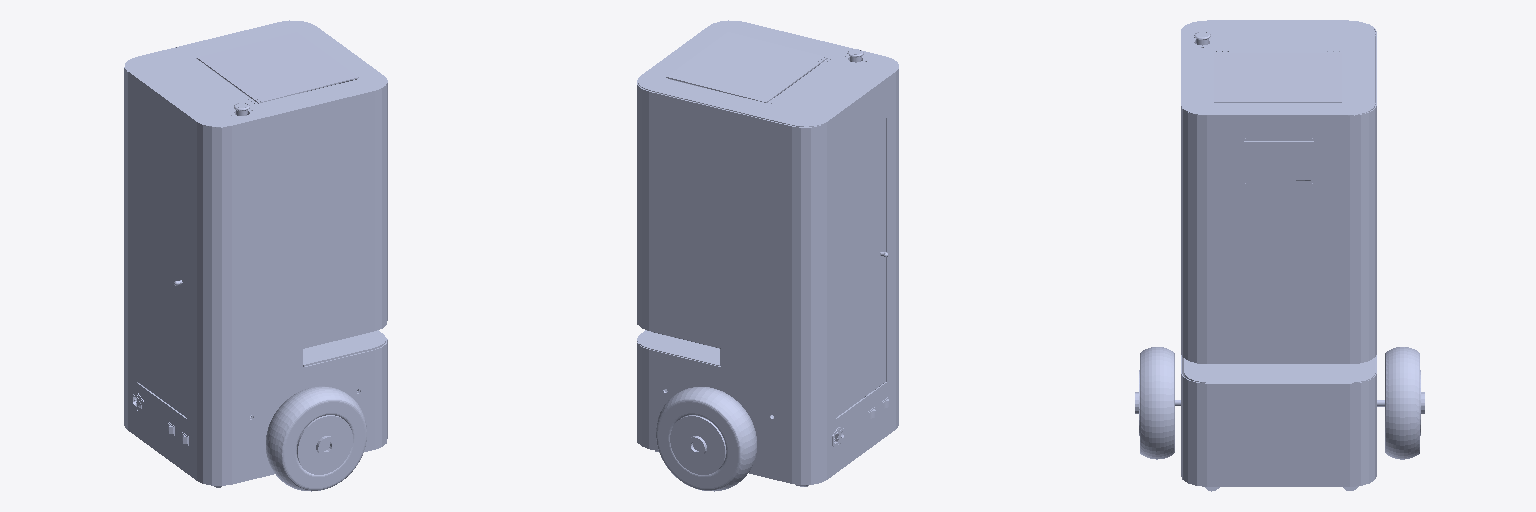
robot.urdf — base_coordinate:
<?xml version="1.0" encoding="utf-8"?>
<!-- This URDF was automatically created by SolidWorks to URDF Exporter! Originally created by [author] ([email redacted]) 
     Commit Version: 1.6.0-4-g7f85cfe  Build Version: 1.6.7995.38578
     For more information, please see http://wiki.ros.org/sw_urdf_exporter -->
<robot
  name="base_coordinate">

  <link name="odom">
  </link>

  <link
    name="base_link">
    <inertial>
      <origin
        xyz="0.0011802 -0.0022568 0.33208"
        rpy="0 0 0" />
      <mass
        value="45.185" />
      <inertia
        ixx="0.64703"
        ixy="-0.00015878"
        ixz="-0.0017912"
        iyy="0.63848"
        iyz="-6.5411E-05"
        izz="0.45954" />
    </inertial>
    <visual>
      <origin
        xyz="0 0 0"
        rpy="0 0 0" />
      <geometry>
        <mesh
          filename="package://base_coordinate/meshes/base_link.STL" />
      </geometry>
      <material
        name="">
        <color
          rgba="0.79216 0.81961 0.93333 1" />
      </material>
    </visual>
    <collision>
      <origin
        xyz="0 0 0"
        rpy="0 0 0" />
      <geometry>
        <mesh
          filename="package://base_coordinate/meshes/base_link.STL" />
      </geometry>
    </collision>
  </link>

  <joint name="base_joint" type="fixed">
    <origin xyz="0.0 0.0 0.09" rpy="0.0 0.0 0.0"/>
    <parent link="odom"/>
    <child link="base_link"/>
    <axis xyz="0.0 0.0 0.0"/>
    <limit lower="0.0" upper="0.0" effort="0.0" velocity="0.0"/>
  </joint>

  <link
    name="lidar_link">
    <inertial>
      <origin
        xyz="-0.01205 0.00052865 -0.028765"
        rpy="0 0 0" />
      <mass
        value="0.073082" />
      <inertia
        ixx="1.9579E-05"
        ixy="-1.0452E-07"
        ixz="4.2823E-07"
        iyy="2.4126E-05"
        iyz="-9.3466E-09"
        izz="4.1417E-05" />
    </inertial>
    <visual>
      <origin
        xyz="0 0 0"
        rpy="0 0 0" />
      <geometry>
        <mesh
          filename="package://base_coordinate/meshes/lidar_link.STL" />
      </geometry>
      <material
        name="">
        <color
          rgba="0.79216 0.81961 0.93333 1" />
      </material>
    </visual>
    <collision>
      <origin
        xyz="0 0 0"
        rpy="0 0 0" />
      <geometry>
        <mesh
          filename="package://base_coordinate/meshes/lidar_link.STL" />
      </geometry>
    </collision>
  </link>
  <joint
    name="lidar_joint"
    type="fixed">
    <origin
      xyz="0.041658 0.00082101 0.23873"
      rpy="0 0 0" />
    <parent
      link="base_link" />
    <child
      link="lidar_link" />
    <axis
      xyz="0 0 0" />
  </joint>
  <link
    name="right_wheel">
    <inertial>
      <origin
        xyz="-6.7134E-07 0.045293 -3.4949E-06"
        rpy="0 0 0" />
      <mass
        value="1.3494" />
      <inertia
        ixx="0.0067875"
        ixy="2.3192E-08"
        ixz="2.4575E-07"
        iyy="0.01199"
        iyz="1.7342E-09"
        izz="0.0067878" />
    </inertial>
    <visual>
      <origin
        xyz="0 0 0"
        rpy="0 0 0" />
      <geometry>
        <mesh
          filename="package://base_coordinate/meshes/right_wheel.STL" />
      </geometry>
      <material
        name="">
        <color
          rgba="0.79216 0.81961 0.93333 1" />
      </material>
    </visual>
    <collision>
      <origin
        xyz="0 0 0"
        rpy="0 0 0" />
      <geometry>
        <mesh
          filename="package://base_coordinate/meshes/right_wheel.STL" />
      </geometry>
    </collision>
  </link>
  <joint
    name="right_joint"
    type="continuous">
    <origin
      xyz="0 -0.34093 0.039723"
      rpy="0 0 0" />
    <parent
      link="base_link" />
    <child
      link="right_wheel" />
    <axis
      xyz="0 1 0" />
  </joint>
  
  <link
    name="left_wheel">
    <inertial>
      <origin
        xyz="6.7134E-07 -0.045294 -3.5979E-06"
        rpy="0 0 0" />
      <mass
        value="1.3494" />
      <inertia
        ixx="0.0067874"
        ixy="2.3192E-08"
        ixz="-2.4575E-07"
        iyy="0.01199"
        iyz="1.7328E-08"
        izz="0.0067878" />
    </inertial>
    <visual>
      <origin
        xyz="0 0 0"
        rpy="0 0 0" />
      <geometry>
        <mesh
          filename="package://base_coordinate/meshes/left_wheel.STL" />
      </geometry>
      <material
        name="">
        <color
          rgba="0.79216 0.81961 0.93333 1" />
      </material>
    </visual>
    <collision>
      <origin
        xyz="0 0 0"
        rpy="0 0 0" />
      <geometry>
        <mesh
          filename="package://base_coordinate/meshes/left_wheel.STL" />
      </geometry>
    </collision>
  </link>
  <joint
    name="left_joint"
    type="continuous">
    <origin
      xyz="0 0.34093 0.039723"
      rpy="0 0 0" />
    <parent
      link="base_link" />
    <child
      link="left_wheel" />
    <axis
      xyz="0 1 0" />
  </joint>

      <!-- hokuyo -->
      <gazebo reference="lidar_link">
        <sensor type="ray" name="head_hokuyo_sensor">
          <pose>0 0 0 0 0 0</pose>
          <visualize>true</visualize>
          <update_rate>10</update_rate>
          <ray>
            <scan>
              <horizontal>
                <samples>2000</samples>
        <!-- https://github.com/ros-perception/slam_gmapping/issues/79  " Setting more than 2048 samples will cause a problem here is a link with small explanation and solution"-->
                <resolution>1</resolution>
                <min_angle>-1.57</min_angle>
                <max_angle>1.57</max_angle>
              </horizontal>
            </scan>
            <range>
              <min>0.10</min>
              <max>8.0</max>
              <resolution>0.01</resolution>
            </range>
            <noise>
              <type>gaussian</type>
              <!-- Noise parameters based on published spec for Hokuyo laser
                   achieving "+-30mm" accuracy at range < 10m.  A mean of 0.0m and
                   stddev of 0.01m will put 99.7% of samples within 0.03m of the true
                   reading. -->
              <mean>0.0</mean>
              <stddev>0.01</stddev>
            </noise>
          </ray>
          <plugin name="gazebo_ros_head_hokuyo_controller" filename="libgazebo_ros_laser.so">
            <topicName>/filtered_scan</topicName>
            <frameName>lidar_link</frameName>
          </plugin>
        </sensor>
        </gazebo>
      
        <gazebo>
          <plugin name="differential_drive_controller" filename="libgazebo_ros_diff_drive.so">
        
            <!-- Plugin update rate in Hz -->
            <updateRate>10</updateRate>
        
            <!-- Name of left joint, defaults to `left_joint` -->
            <leftJoint>left_joint</leftJoint>
        
            <!-- Name of right joint, defaults to `right_joint` -->
            <rightJoint>right_joint</rightJoint>
        
            <!-- The distance from the center of one wheel to the other, in meters, defaults to 0.34 m -->
            <wheelSeparation>0.58</wheelSeparation>
        
            <!-- Diameter of the wheels, in meters, defaults to 0.15 m -->
            <wheelDiameter>0.25</wheelDiameter>
        
            <!-- Wheel acceleration, in rad/s^2, defaults to 0.0 rad/s^2 -->
            <wheelAcceleration>1.0</wheelAcceleration>
        
            <!-- Maximum torque which the wheels can produce, in Nm, defaults to 5 Nm -->
            <wheelTorque>10</wheelTorque>
        
            <!-- Topic to receive geometry_msgs/Twist message commands, defaults to `cmd_vel` -->
            <commandTopic>cmd_vel</commandTopic>
        
            <!-- Topic to publish nav_msgs/Odometry messages, defaults to `odom` -->
            <odometryTopic>odom</odometryTopic>
        
            <!-- Odometry frame, defaults to `odom` -->
            <odometryFrame>odom</odometryFrame>
        
            <!-- Robot frame to calculate odometry from, defaults to `base_footprint` -->
            <robotBaseFrame>base_link</robotBaseFrame>
        
            <!-- Odometry source, 0 for ENCODER, 1 for WORLD, defaults to WORLD -->
            <odometrySource>1</odometrySource>
        
          <!-- Set to true to publish transforms for the wheel links, defaults to false -->
          <publishWheelTF>false</publishWheelTF>
        
          <!-- Set to true to publish transforms for the odometry, defaults to true -->
          <publishOdom>false</publishOdom>
        </plugin>
        
        </gazebo>
    
        
        <gazebo reference="base_link">
          <material>Gazebo/Black</material>
          </gazebo>

</robot>

--- Facts derived from the render (not from the file) ---
Views: 3 orthographic renders of the robot side by side, from view 1: azimuth 30°, elevation 25°; view 2: azimuth 150°, elevation 25°; view 3: azimuth 270°, elevation 25°.
Robot: base_coordinate — 5 links, 4 joints (2 continuous, 2 fixed); root link odom; default pose: every joint at zero.
Links seen in each view (by area): view 1: base_link, right_wheel; view 2: base_link, left_wheel; view 3: base_link, left_wheel, right_wheel.
Link boxes in pixels (left/top/right/bottom): base_link: left=124, top=20, right=387, bottom=487; right_wheel: left=266, top=386, right=366, bottom=491; base_link: left=637, top=20, right=898, bottom=486; left_wheel: left=656, top=387, right=756, bottom=491; base_link: left=1181, top=20, right=1376, bottom=491; left_wheel: left=1377, top=347, right=1424, bottom=459; right_wheel: left=1135, top=347, right=1180, bottom=459.
Bounding box of the posed robot: 0.5501 × 0.6819 × 1.02 m (x, y, z).
Meshes: 4 distinct files referenced, 3 mesh visuals loaded (3 binary STL); not drawn: 1 (reference not matched to a file when rendering).
